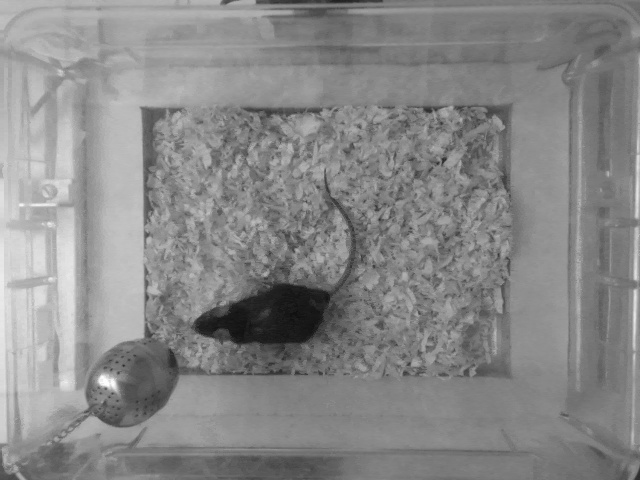mice: (186, 164, 354, 348)
